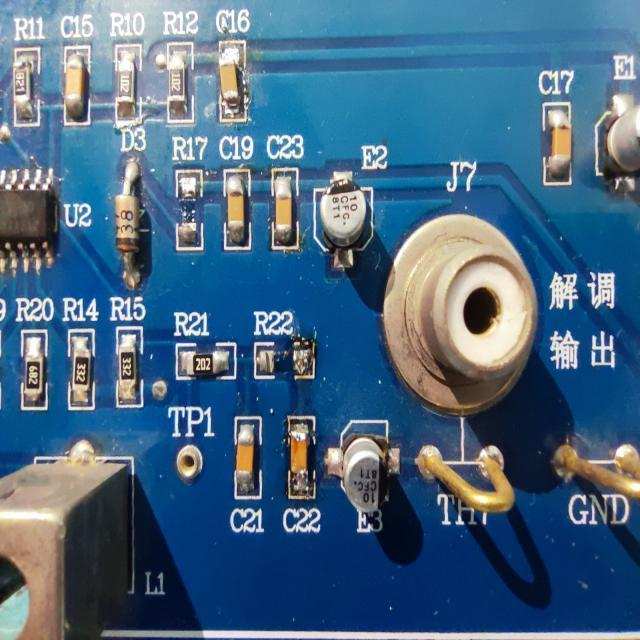Missing component: (252, 310, 319, 382), (170, 135, 210, 254)
